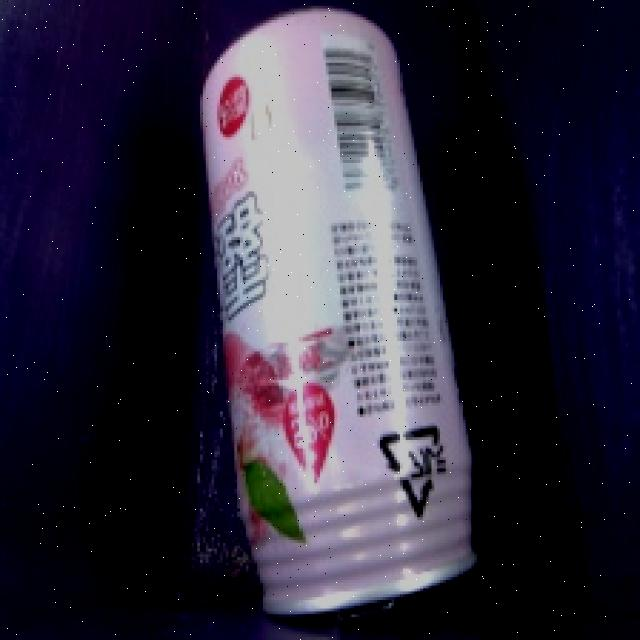metal: (160, 0, 520, 629)
